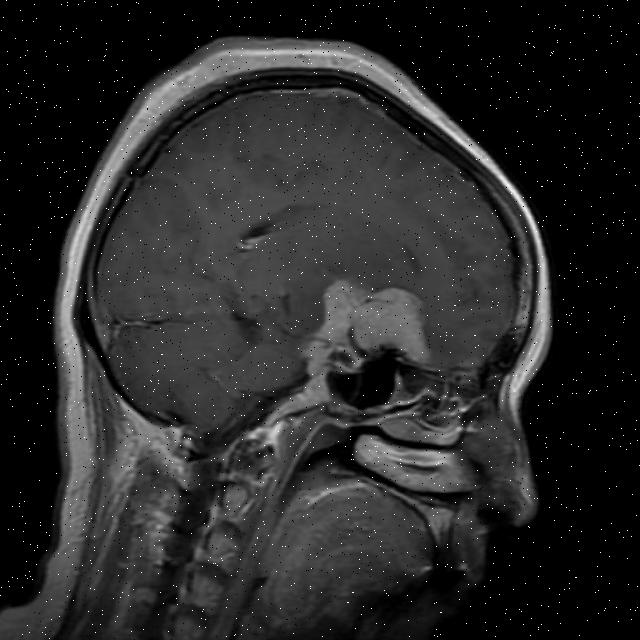Meningioma: (299, 280, 438, 373)
